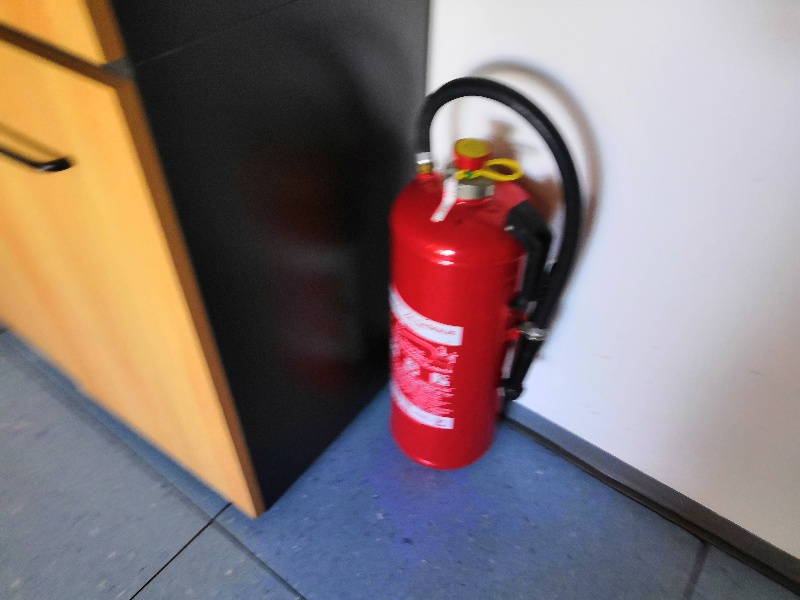vataparat: (384, 79, 583, 472)
